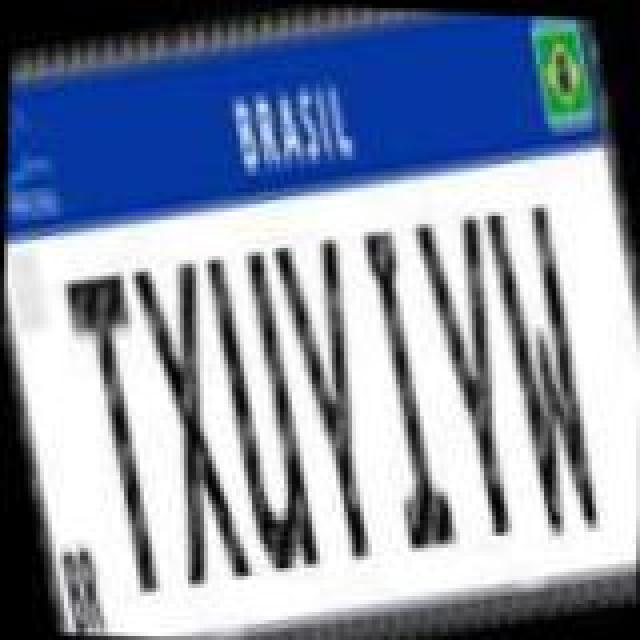I: (340, 214, 468, 550)
T: (48, 266, 188, 602)
U: (188, 238, 328, 578)
W: (470, 194, 618, 538)
X: (118, 254, 262, 590)
Y: (256, 226, 400, 566), (400, 206, 544, 546)
